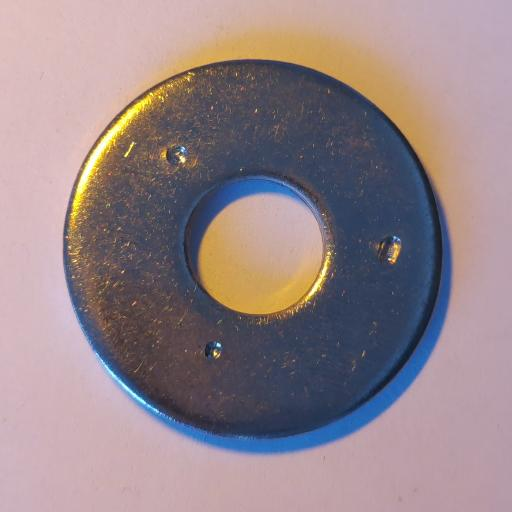circular_cavity: (376, 235, 403, 265), (164, 142, 188, 166), (204, 340, 223, 360)
